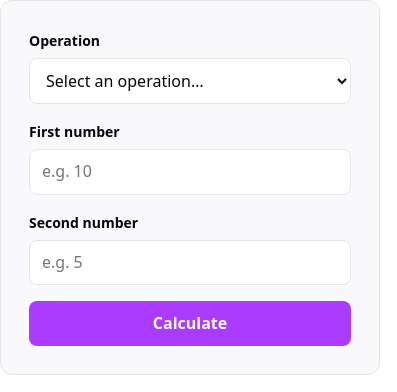
Test: Calculator › hides the second number input for sqrt
The image size is (397, 392).
Step 1. Select "Square root (√a)" in the dropdown labelled "Operation" → (190, 81), box x1=29 y1=58 x2=351 y2=104
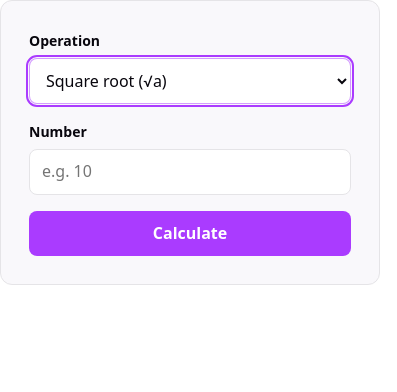
Expected: the field labelled "Number" is shown, x1=29 y1=149 x2=351 y2=195
Result: the label labelled "Second number" is gone
